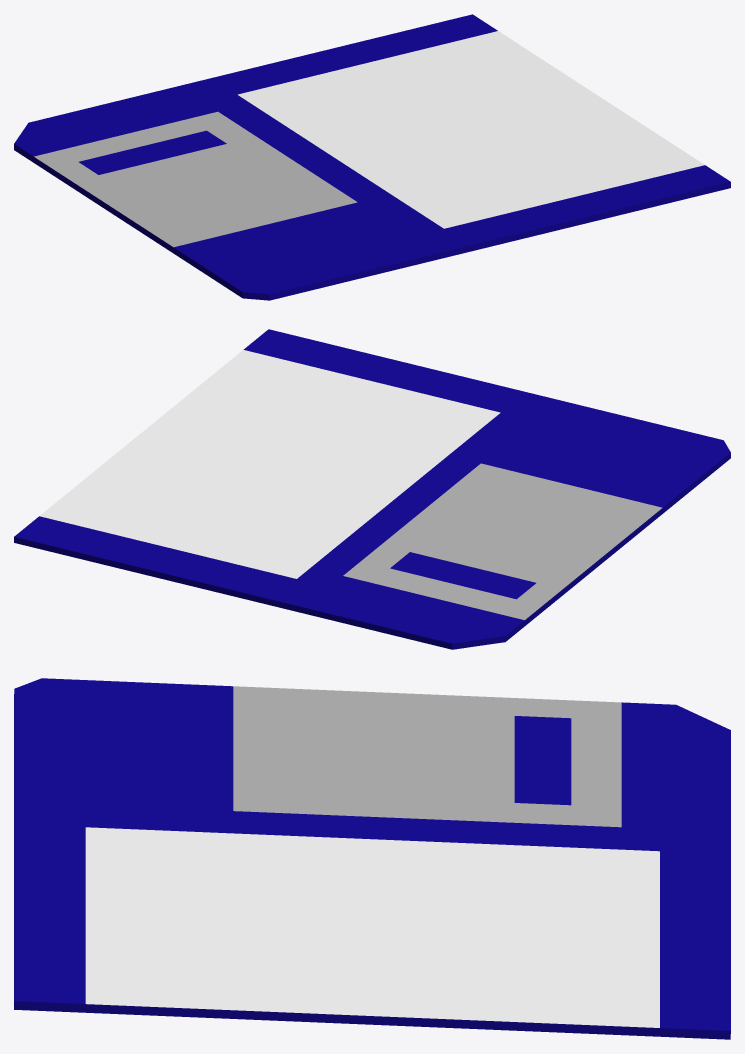
File: Floppy_001.fbx
The picture shows the model from 3 angles, top to bottom: view 1: azimuth 30°, elevation 25°; view 2: azimuth 150°, elevation 25°; view 3: azimuth 270°, elevation 25°; orthographic projection. The views are drawn at different scales.
Parts seen in each view (by area): view 1: Floppy.001; view 2: Floppy.001; view 3: Floppy.001.
Part boxes in pixels (box(x1,y1,x2,y2)): Floppy.001: box(14, 14, 730, 300); Floppy.001: box(14, 329, 730, 649); Floppy.001: box(14, 678, 730, 1039).
Bounding box in the file's own units: 20 × 1.11 × 18.7.
